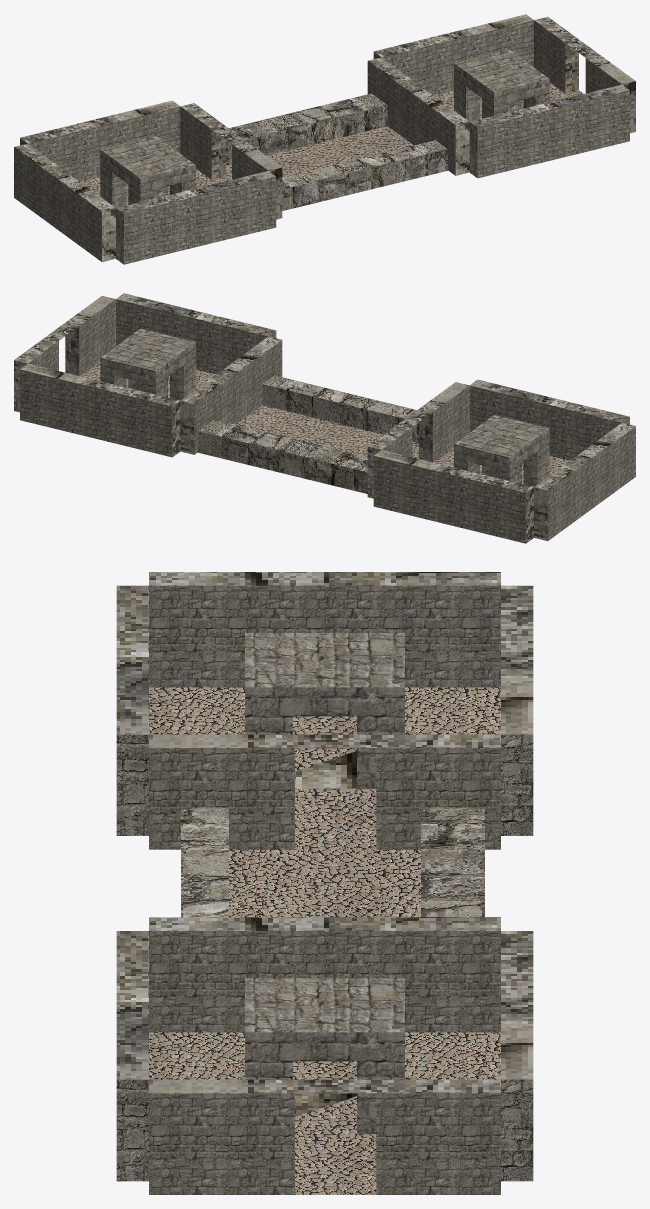
3 views of the same model, one above another, from view 1: azimuth 30°, elevation 25°; view 2: azimuth 150°, elevation 25°; view 3: azimuth 270°, elevation 25° (orthographic). The views are drawn at different scales.
Parts seen in each view (by area): view 1: Cube, Cube.002, Cube.001; view 2: Cube, Cube.002, Cube.001; view 3: Cube, Cube.002, Cube.001.
Part boxes in pixels (x1,y1,x2,y2): Cube: [14, 100, 413, 264]; Cube.002: [367, 14, 635, 178]; Cube.001: [225, 93, 447, 210]; Cube: [236, 379, 635, 543]; Cube.002: [14, 293, 282, 457]; Cube.001: [198, 375, 418, 493]; Cube: [116, 572, 533, 917]; Cube.002: [116, 917, 533, 1194]; Cube.001: [181, 808, 484, 917].
Bounding box in the file's own units: 77 × 7.1 × 26.
Materials: 2 (2 with a texture image).
